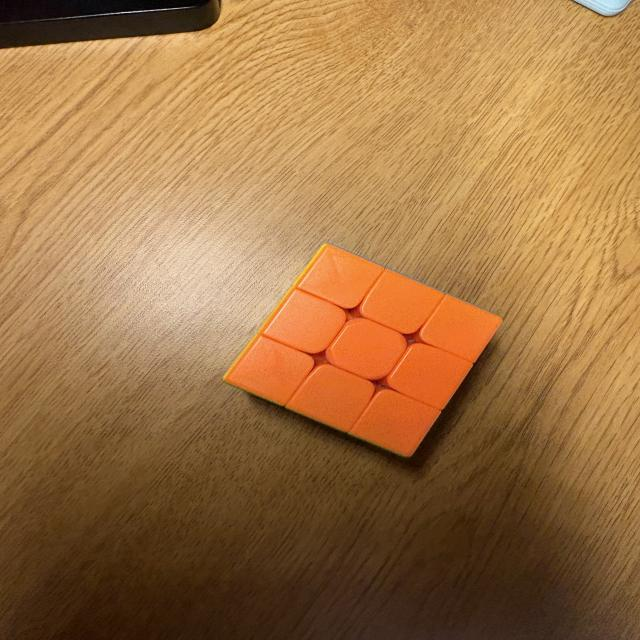Rubiks Cube: (223, 244, 501, 458)
